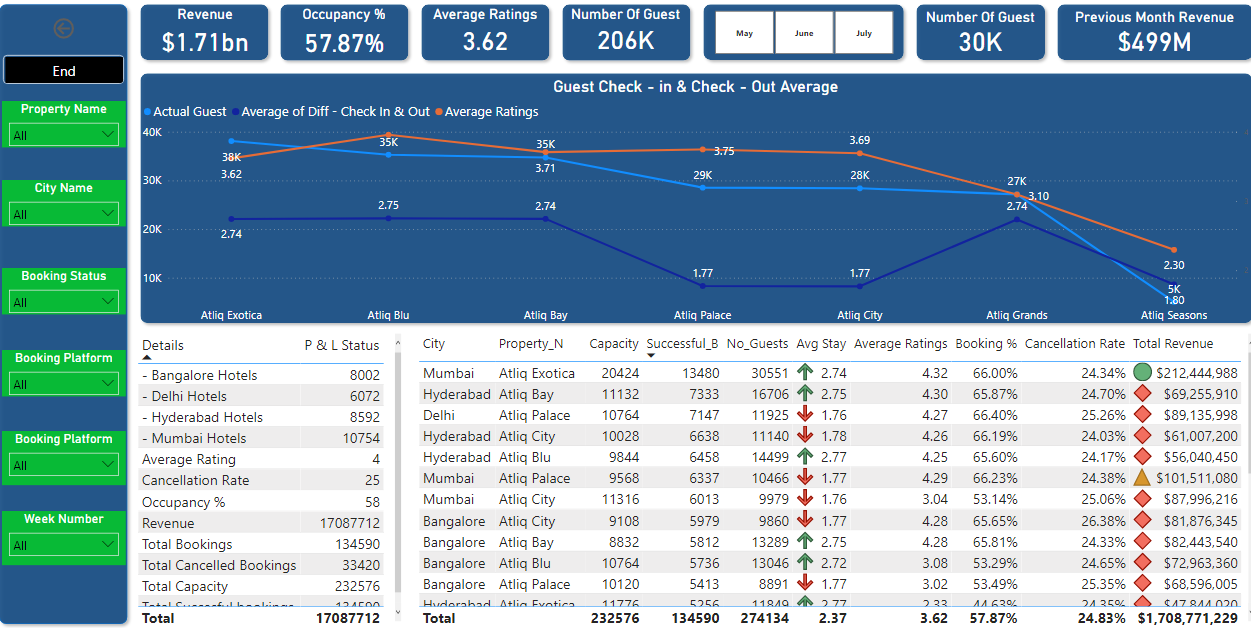

The page's visual inventory and layout, read from the dashboard file:
{"tool":"powerbi","page":{"name":"Details & Difference","canvas":[1800,900],"ordinal":4},"visuals":[{"type":"shape","box":[200.8,98.6,1599.2,372.9],"z":0},{"type":"shape","box":[1000.4,0,303,96.8],"z":1000},{"type":"shape","box":[800.5,0,200.5,98.1],"z":2000},{"type":"shape","box":[600,0,200.5,98.1],"z":3000},{"type":"shape","box":[0,0,200.4,899.4],"z":4000},{"type":"shape","box":[399.5,0,200.5,98.1],"z":5000},{"type":"card","title":"Occupancy %","fields":{"Values":["Main Measure.Occupancy %"]},"box":[412.5,10.9,173.4,75],"z":6000},{"type":"card","title":"Average Ratings","fields":{"Values":["Main Measure.Average Ratings"]},"box":[610.9,10.9,176.6,68.8],"z":7000},{"type":"card","title":"Number Of Guest","fields":{"Values":["Main Measure.Actual Guest"]},"box":[812.5,10.9,175,65.6],"z":8000},{"type":"slicer","fields":{"Values":["Dim_Date.Mm Yy.Variation.Date Hierarchy.Month"]},"box":[1000.4,10.8,303,75.3],"z":9000},{"type":"shape","box":[200.5,0,200.5,96.7],"z":10000},{"type":"card","title":"Revenue","fields":{"Values":["Main Measure.Total Revenue"]},"box":[201.9,11.4,199.1,73.9],"z":11000},{"type":"slicer","title":"Property Name","fields":{"Values":["Dim_Hotels.Property_Name"]},"box":[12.5,147,175.7,66.3],"z":12000},{"type":"slicer","title":"City Name","fields":{"Values":["Dim_Hotels.City"]},"box":[12.5,258.2,175.7,66.3],"z":13000},{"type":"slicer","title":"Booking Status","fields":{"Values":["Fact_Bookings.Booking_Status"]},"box":[12.5,383.7,175.7,66.3],"z":14000},{"type":"slicer","title":"Booking Platform","fields":{"Values":["Fact_Bookings.Booking_Platform"]},"box":[12.5,500.2,175.7,66.3],"z":15000},{"type":"slicer","title":"Booking Platform","fields":{"Values":["Dim_Date.Mm Yy.Variation.Date Hierarchy.Month"]},"box":[12.5,614.9,175.7,77.1],"z":16000},{"type":"slicer","title":"Week Number","fields":{"Values":["Dim_Date.Week No"]},"box":[12.5,729.7,175.7,77.1],"z":17000},{"type":"shape","box":[1303.4,0,200.8,96.8],"z":18000},{"type":"card","title":"Number Of Guest","fields":{"Values":["Main Measure.Previous Month Bookings"]},"box":[1312.4,16.1,182.9,64.5],"z":19000},{"type":"shape","box":[1504.2,0,295.8,96.8],"z":20000},{"type":"card","title":"Previous Month Revenue","fields":{"Values":["Main Measure.MoM Revenue"]},"box":[1516.7,16.1,268.9,64.5],"z":21000},{"type":"lineChart","title":"Guest Check - in & Check - Out  Average","fields":{"Y2":["Avg(Fact_Bookings.Diff - Check In & Out)","Main Measure.Average Ratings"],"Y":["Main Measure.Actual Guest"],"Category":["Dim_Hotels.Property_Name"]},"box":[208,112.9,1583.1,358.6],"z":22000},{"type":"tableEx","fields":{"Values":["P & L Status.Details","Main Measure.P & L Status"]},"box":[200.8,471.5,385.5,428.5],"z":23000},{"type":"tableEx","fields":{"Values":["Dim_Hotels.City","Dim_Hotels.Property_Name","Sum(Fact_Aggregated_Bookings.Capacity)","Sum(Fact_Aggregated_Bookings.Successful_Bookings)","Sum(Fact_Bookings.No_Guests)","Avg(Fact_Bookings.Diff - Check In & Out)","Main Measure.Average Ratings","Main Measure.Booking %","Main Measure.Cancellation Rate","Main Measure.Total Revenue"]},"box":[600.6,471.5,1199.4,428.5],"z":24000},{"type":"actionButton","box":[80.7,23.3,39.4,41.2],"z":25000},{"type":"actionButton","box":[14.3,80.7,172.1,41.2],"z":25001}]}

Visuals, with their boxes in screenshot pixels (x1, y1, x2, y2), scaled from the page's 1800x900 canvas onto the 1251x628 screenshot:
shape: detection(140, 69, 1250, 329)
shape: detection(695, 0, 906, 68)
shape: detection(556, 0, 696, 68)
shape: detection(417, 0, 556, 68)
shape: detection(0, 0, 139, 627)
shape: detection(278, 0, 417, 68)
"Occupancy %" card: detection(287, 8, 407, 60)
"Average Ratings" card: detection(425, 8, 547, 56)
"Number Of Guest" card: detection(565, 8, 686, 53)
slicer - Dim_Date.Mm Yy.Variation.Date Hierarchy.Month: detection(695, 8, 906, 60)
shape: detection(139, 0, 279, 67)
"Revenue" card: detection(140, 8, 279, 60)
"Property Name" slicer: detection(9, 103, 131, 149)
"City Name" slicer: detection(9, 180, 131, 226)
"Booking Status" slicer: detection(9, 268, 131, 314)
"Booking Platform" slicer: detection(9, 349, 131, 395)
"Booking Platform" slicer: detection(9, 429, 131, 483)
"Week Number" slicer: detection(9, 509, 131, 563)
shape: detection(906, 0, 1045, 68)
"Number Of Guest" card: detection(912, 11, 1039, 56)
shape: detection(1045, 0, 1250, 68)
"Previous Month Revenue" card: detection(1054, 11, 1241, 56)
"Guest Check - in & Check - Out  Average" lineChart: detection(145, 79, 1245, 329)
tableEx - P & L Status.Details x Main Measure.P & L Status: detection(140, 329, 407, 627)
tableEx - Dim_Hotels.City x Dim_Hotels.Property_Name: detection(417, 329, 1250, 627)
actionButton: detection(56, 16, 83, 45)
actionButton: detection(10, 56, 130, 85)
